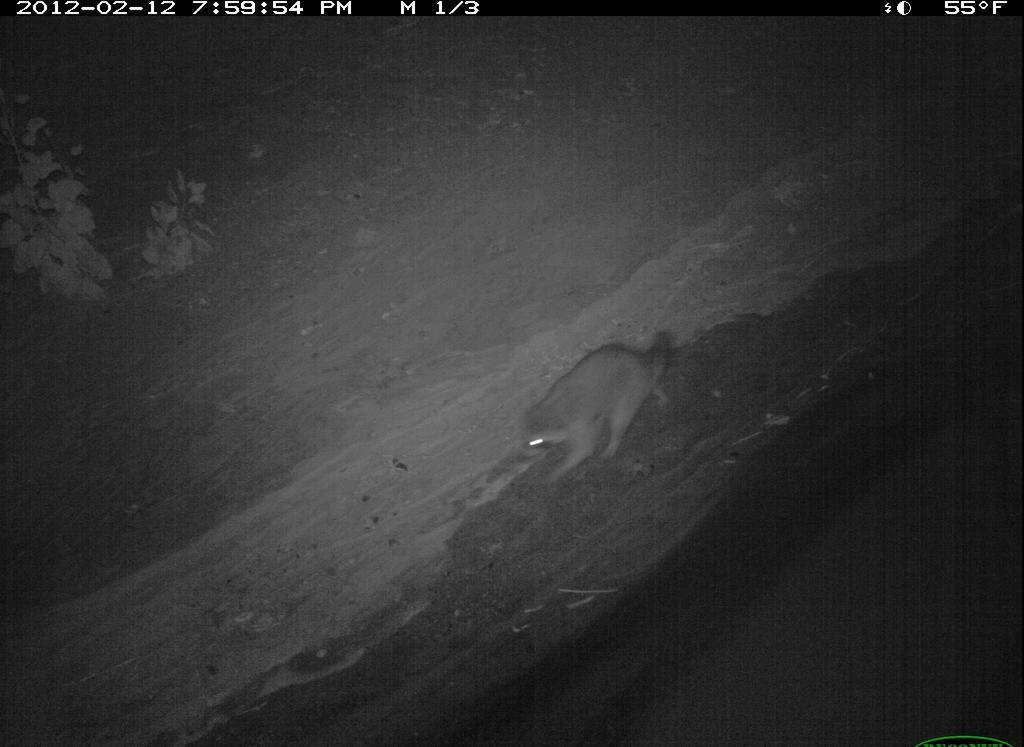raccoon: (1021, 645, 1024, 747)
